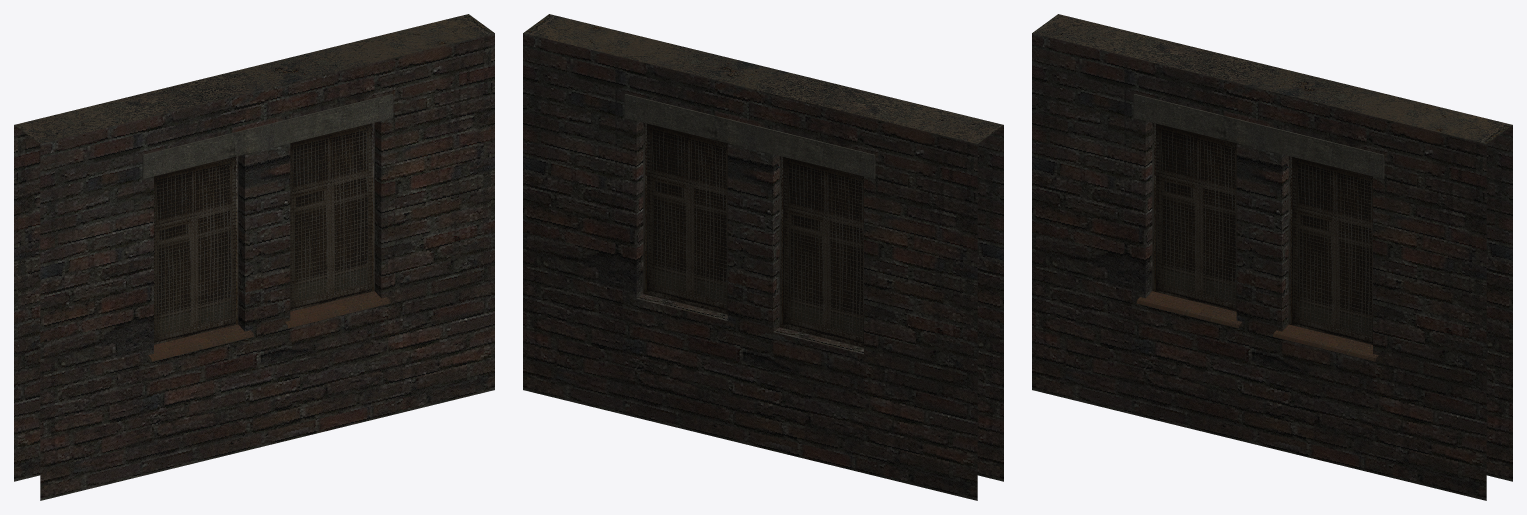
The model's file is windows_hs_1.glb.
The picture shows the model from 3 angles, left to right: view 1: azimuth 30°, elevation 25°; view 2: azimuth 150°, elevation 25°; view 3: azimuth 330°, elevation 25°; orthographic projection.
Parts seen in each view (by area): view 1: windows_hs_1; view 2: windows_hs_1; view 3: windows_hs_1.
Part boxes in pixels (bbox=[...]): windows_hs_1: bbox=[14, 14, 494, 500]; windows_hs_1: bbox=[523, 14, 1003, 500]; windows_hs_1: bbox=[1032, 14, 1512, 500].
Size of the model in its own units: 4 by 3 by 0.465.
5 materials, 5 textured.
